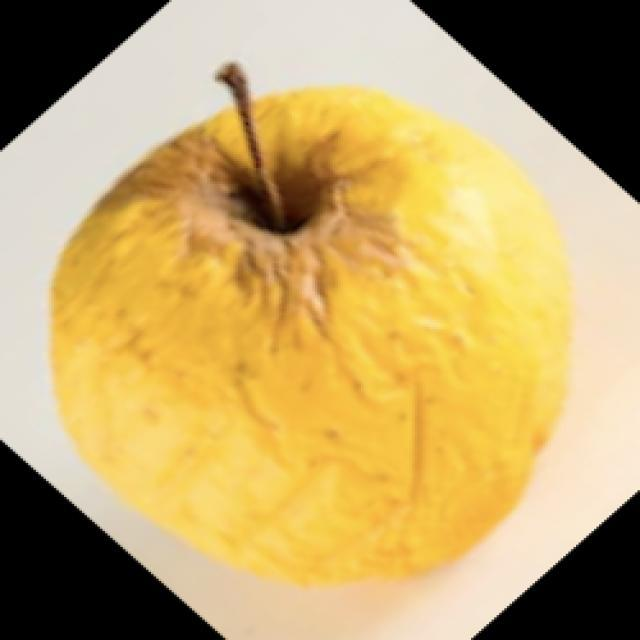Rotten: (83, 100, 567, 555)
